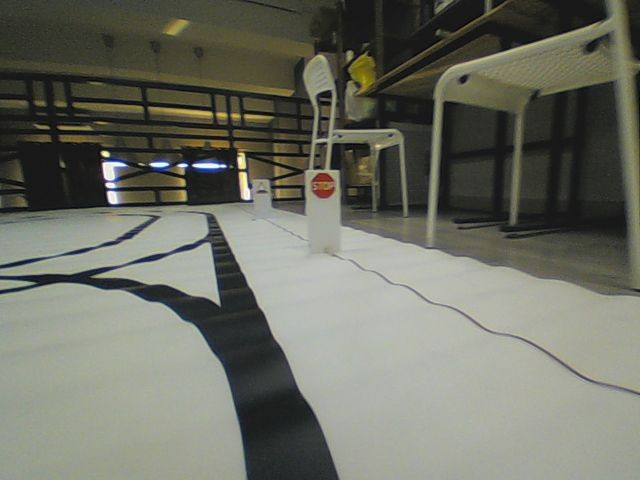Stop: (310, 171, 336, 199)
